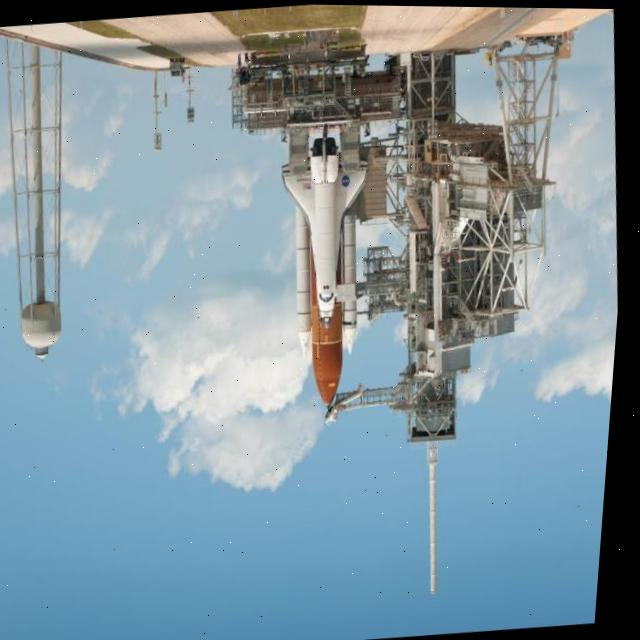missile: (257, 118, 400, 424)
